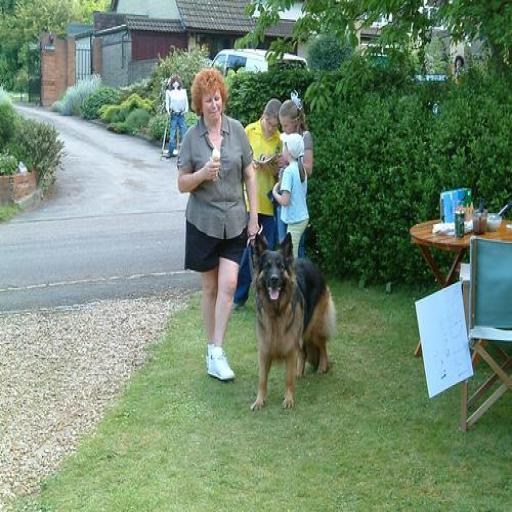dog_face: (255, 229, 295, 308)
